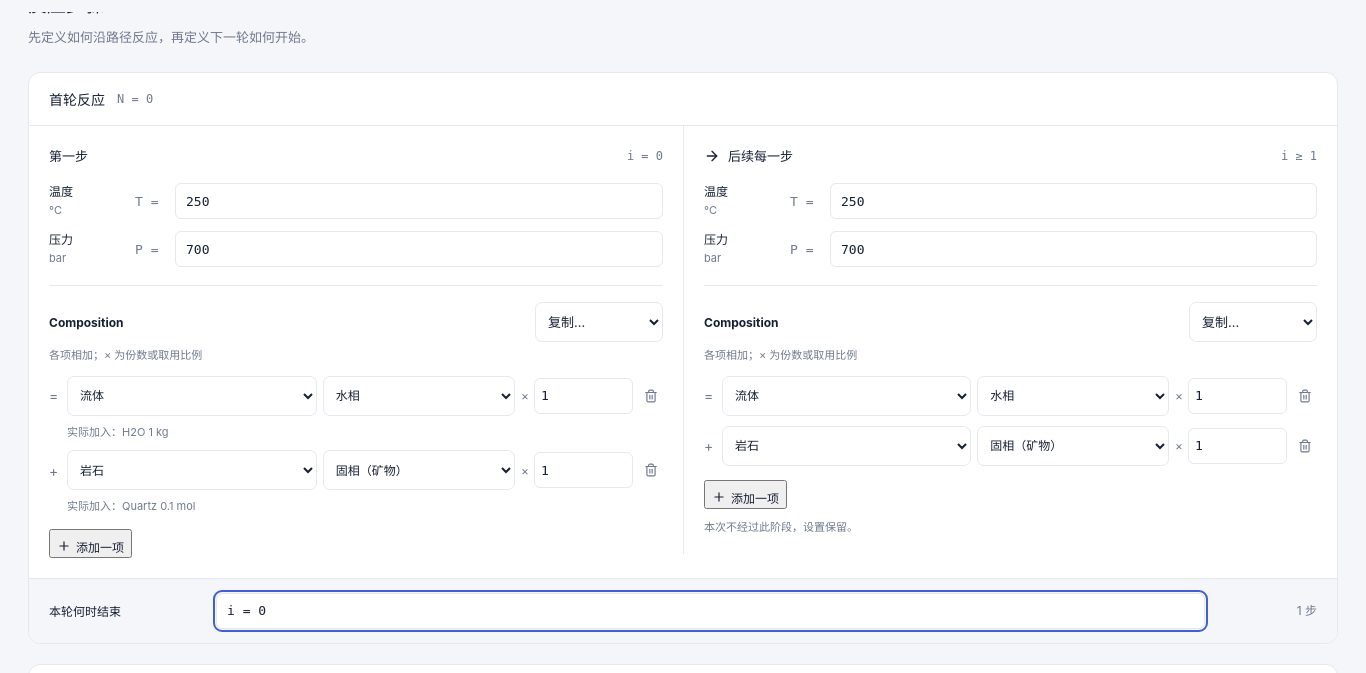
Test: keeps controls and focus in place when a single point becomes a path and multiple rounds
(page scrolled)
Replace the text in the field named "first 结束条件" with "i=99". click: (710, 611)
box: [216,593,1205,629]
(page scrolled)
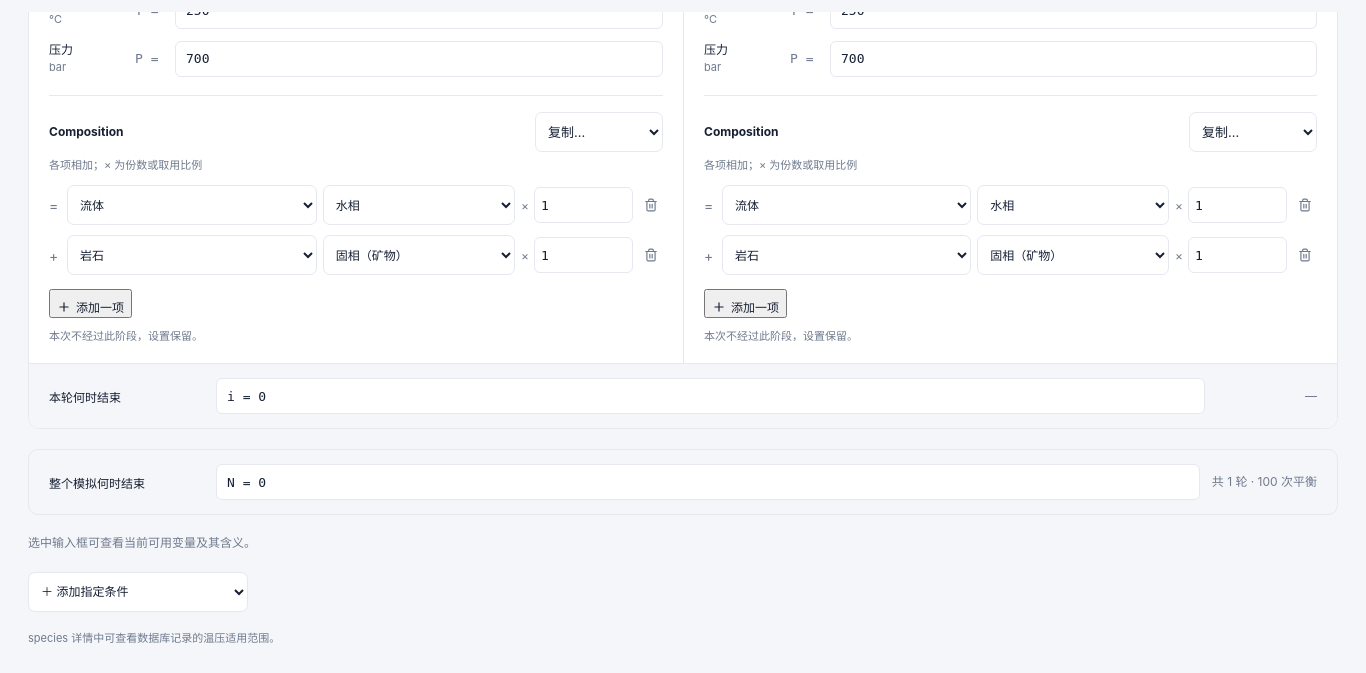
Replace the text in the field named "later 结束条件" with "i=99". click: (710, 396)
box: [216,378,1205,414]
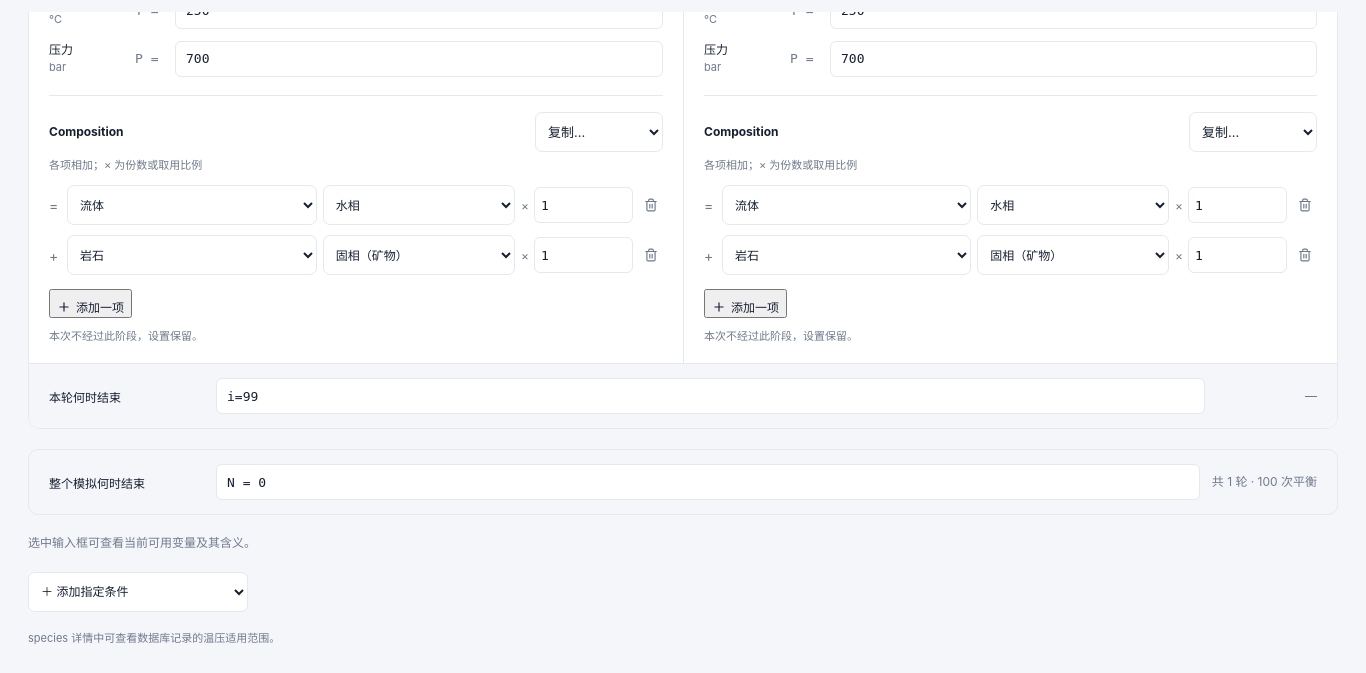
Replace the text in the field named "模拟结束条件" with "N=39". click: (708, 482)
box: [216,464,1200,500]
(page scrolled)
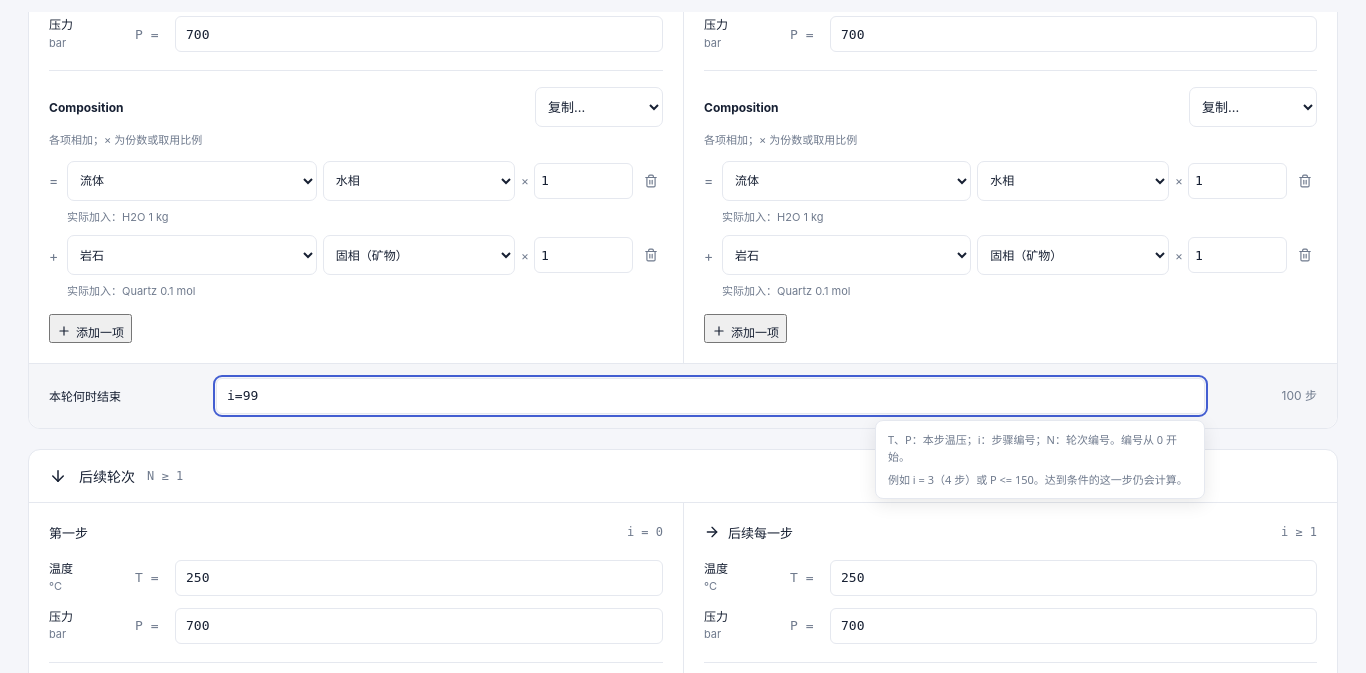
Replace the text in the field named "first 结束条件" with "i=0". click: (710, 396)
box: [216,378,1205,414]
(page scrolled)
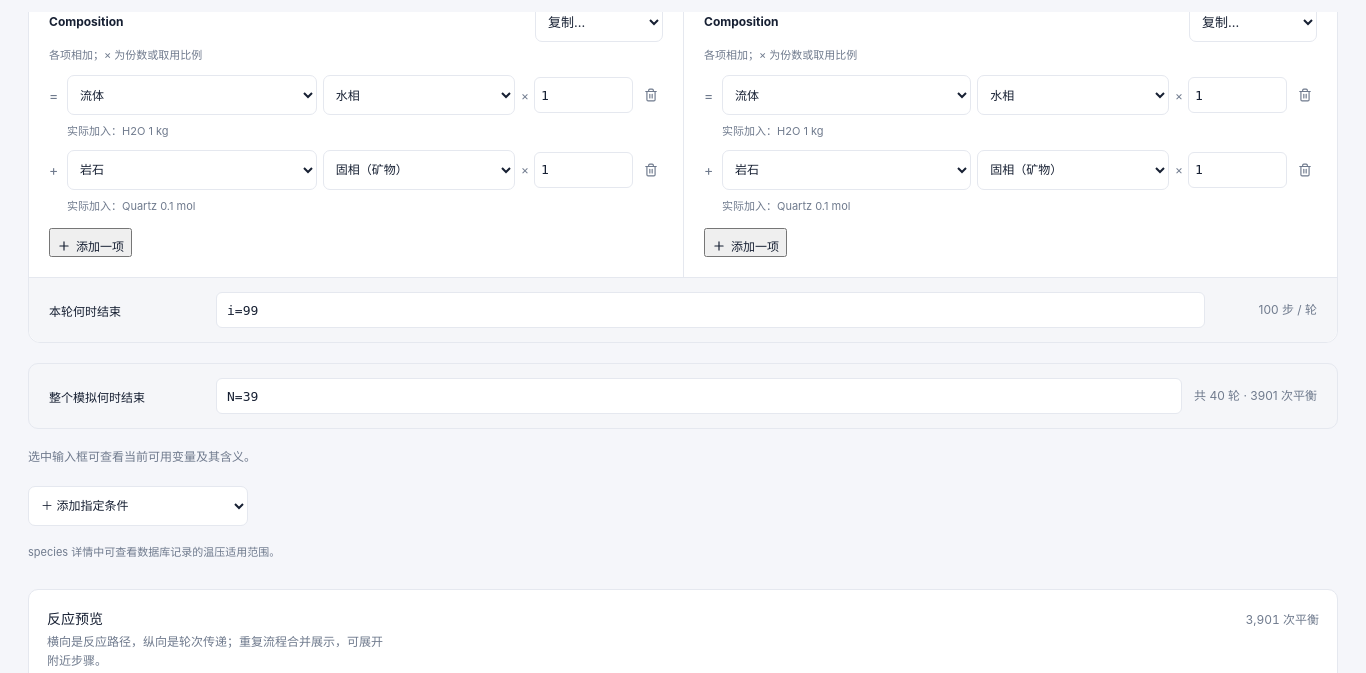
Replace the text in the field named "模拟结束条件" with "N=0". click: (699, 396)
box: [216,378,1182,414]
(page scrolled)
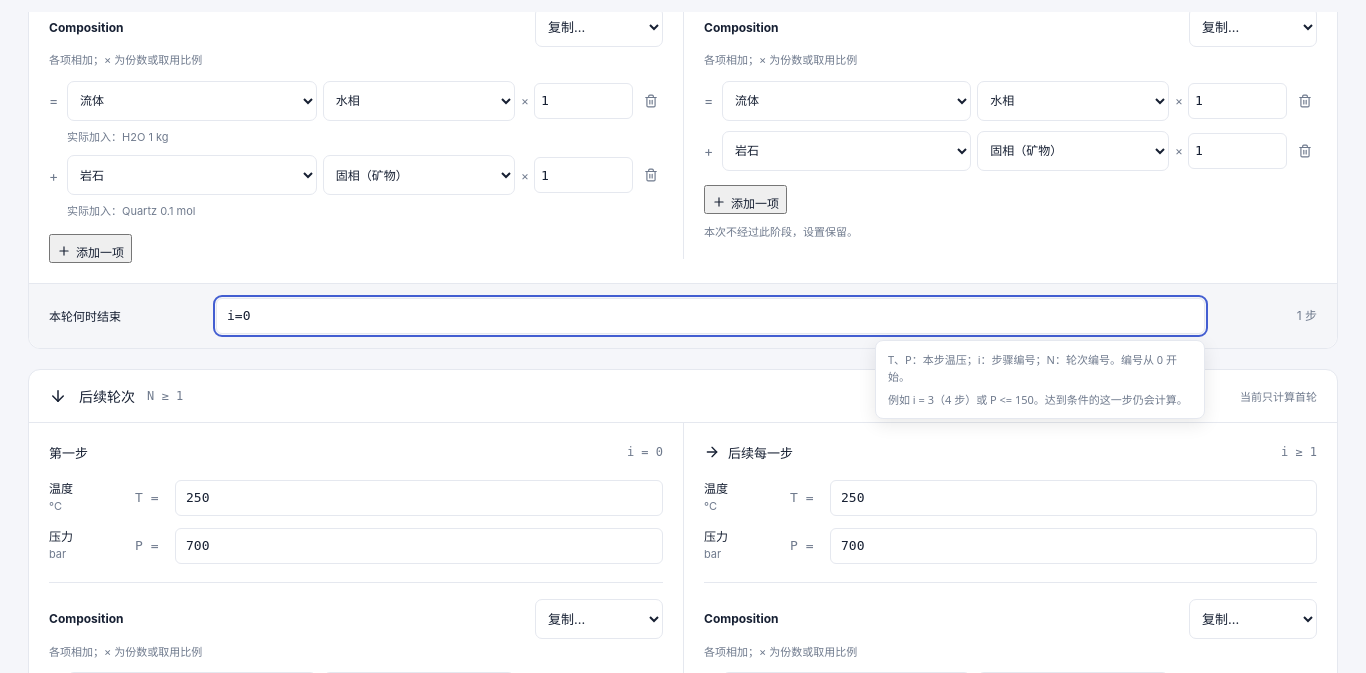
Expected: the text "当前只计算首轮" is shown, [1240,388,1317,404]
